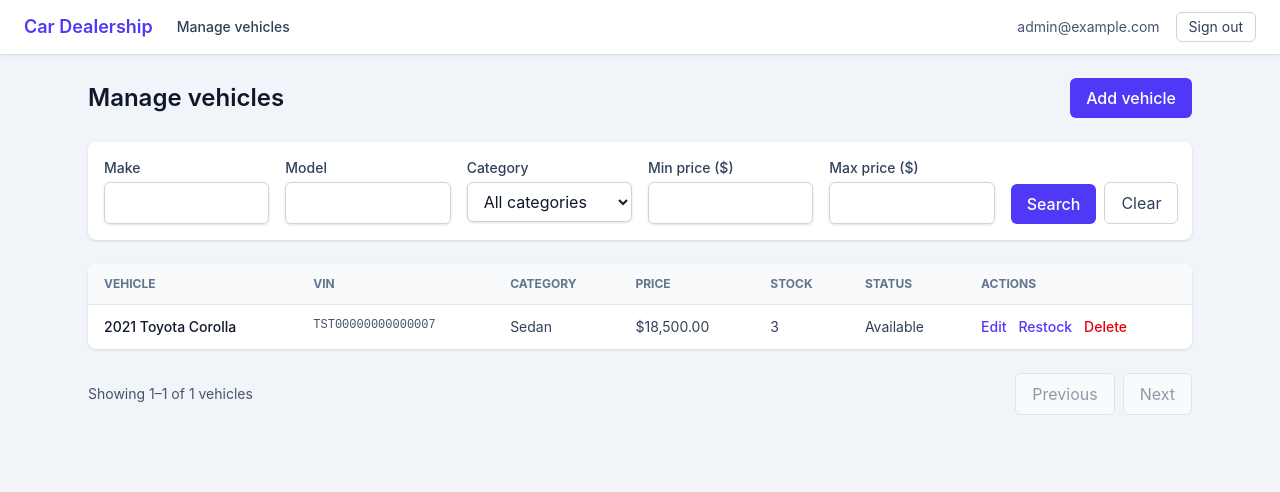
Test: restocking from the admin list › adds the stock, shows the new count and confirms
This screenshot has width=1280, height=492.
Click the button "Restock" at (1045, 327), box 1018,317 -> 1072,337
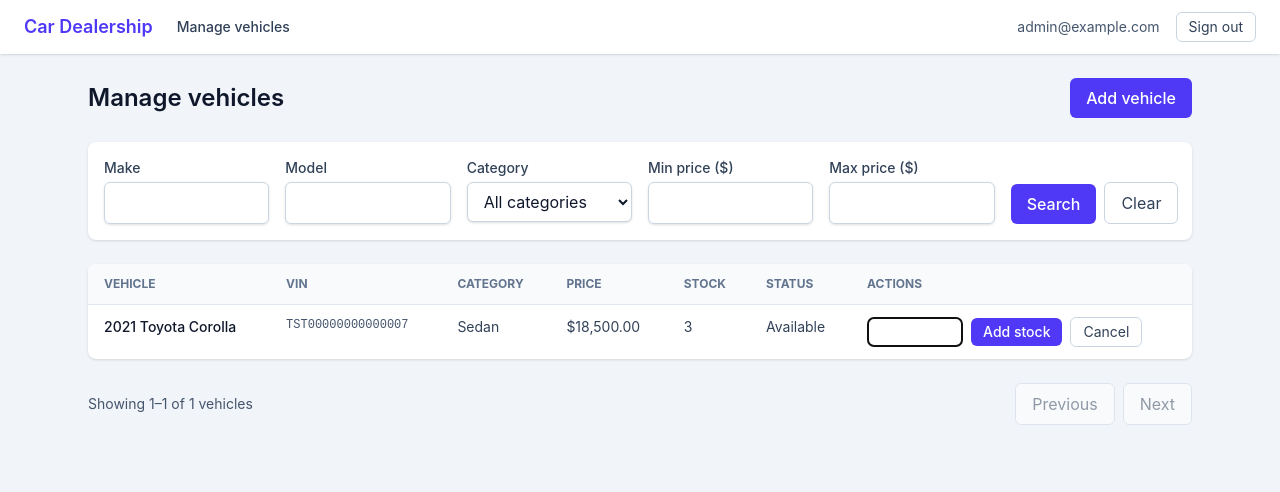
Type "5" into the field named "Quantity to add to 2021 Toyota Corolla" at (915, 332), box 867,317 -> 963,347
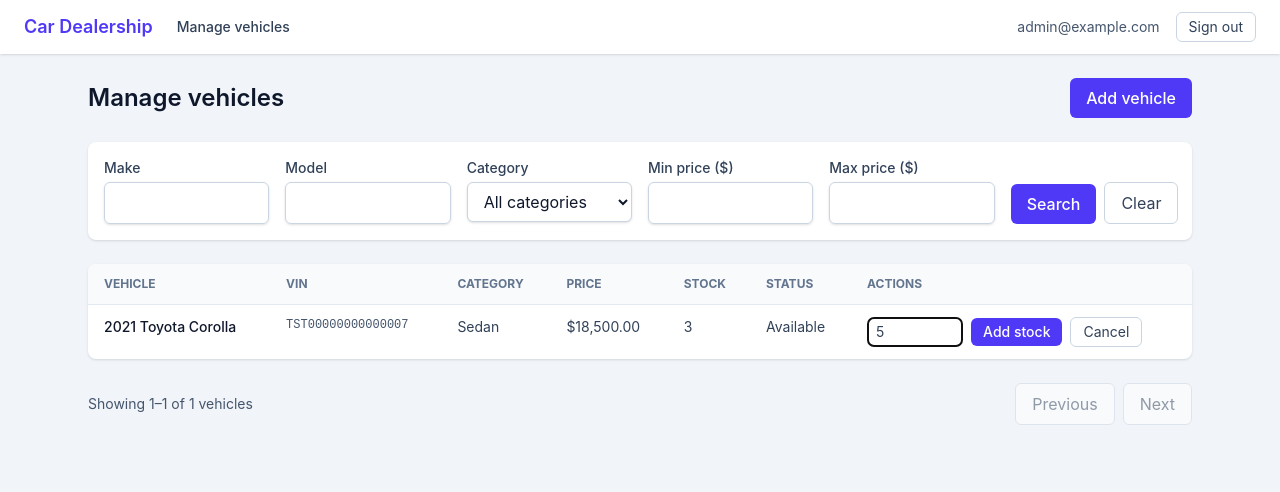
Click the button "Add stock" at (1017, 332), box 971,318 -> 1062,346
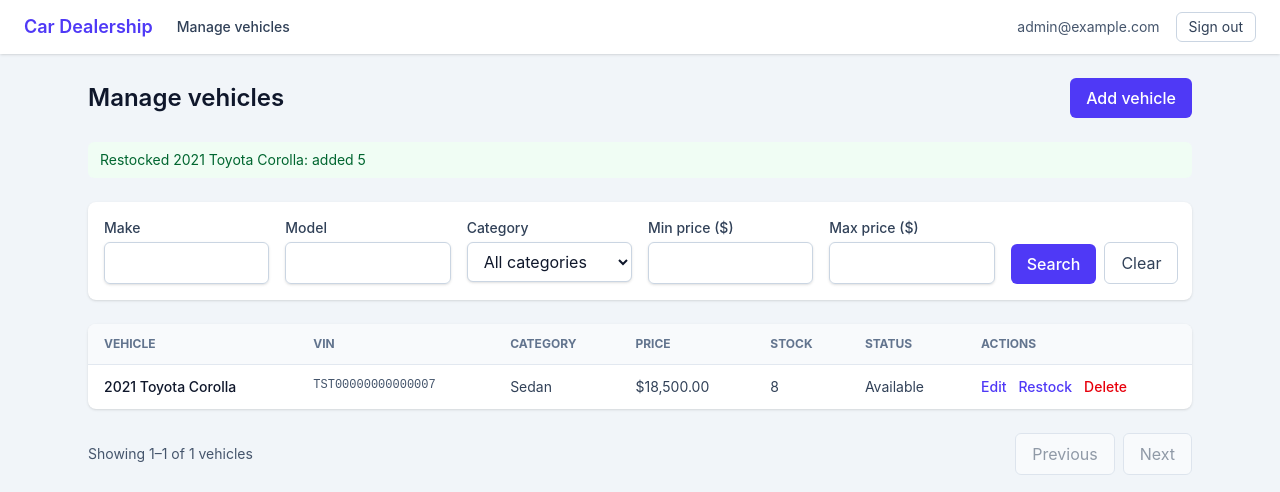
Check: the text "8" is shown, box 754,364 -> 849,409
Check: the text "Restocked 2021 Toyota Corolla: added 5" is shown, box 88,142 -> 1192,178
